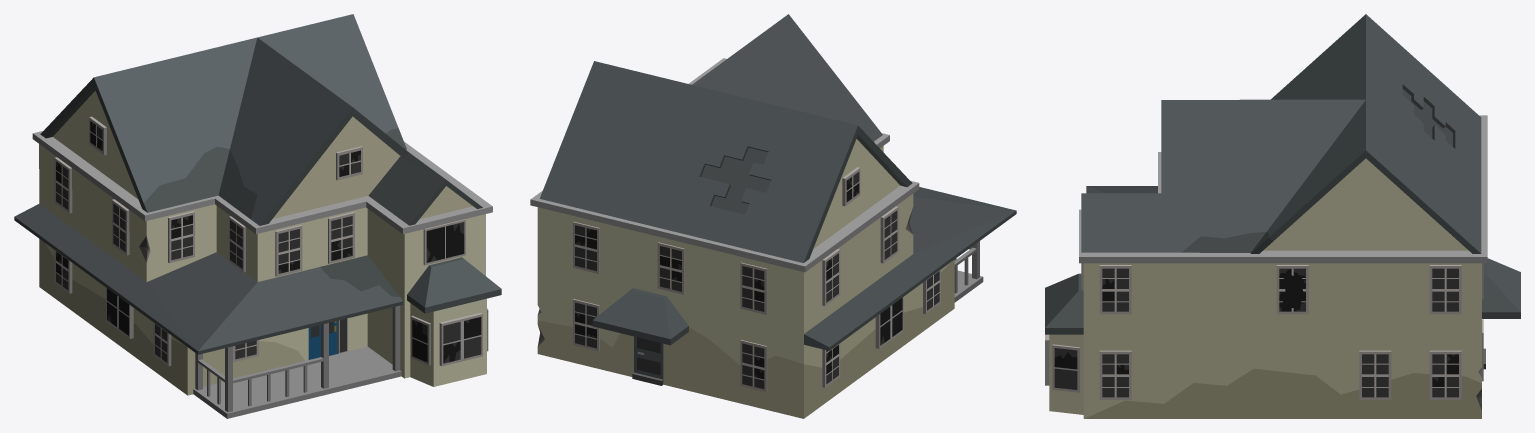
File: SA_Bld_HouseLarge_Damaged_04.gltf
3 renders of one model, left to right at view 1: azimuth 30°, elevation 25°; view 2: azimuth 150°, elevation 25°; view 3: azimuth 270°, elevation 25°, orthographic. The views are drawn at different scales.
Visible parts, largest first — view 1: SA_Bld_HouseLarge_Damaged_04; view 2: SA_Bld_HouseLarge_Damaged_04; view 3: SA_Bld_HouseLarge_Damaged_04.
Boxes of the visible parts, <box> form: SA_Bld_HouseLarge_Damaged_04: <box>14,14,501,418</box>; SA_Bld_HouseLarge_Damaged_04: <box>530,14,1016,418</box>; SA_Bld_HouseLarge_Damaged_04: <box>1045,14,1520,418</box>.
Size of the model in its own units: 19.56 by 15.98 by 25.71.
Materials: 1 (1 with a texture image).
